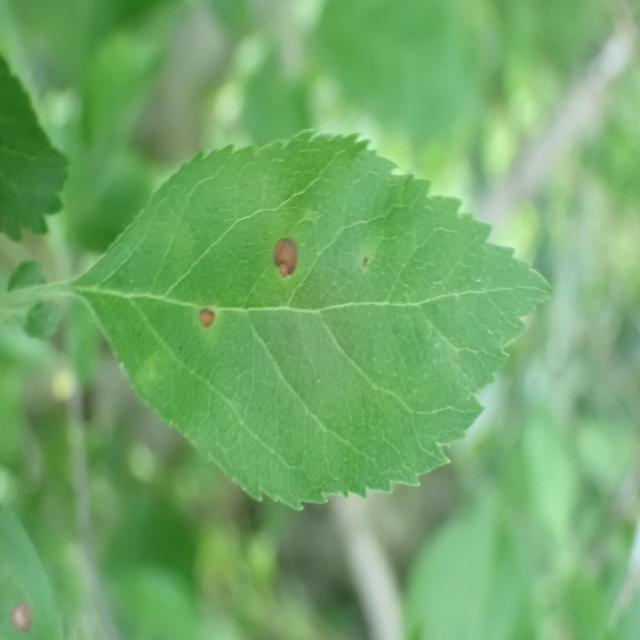Black Rot: (270, 178, 307, 328), (192, 272, 225, 350)
